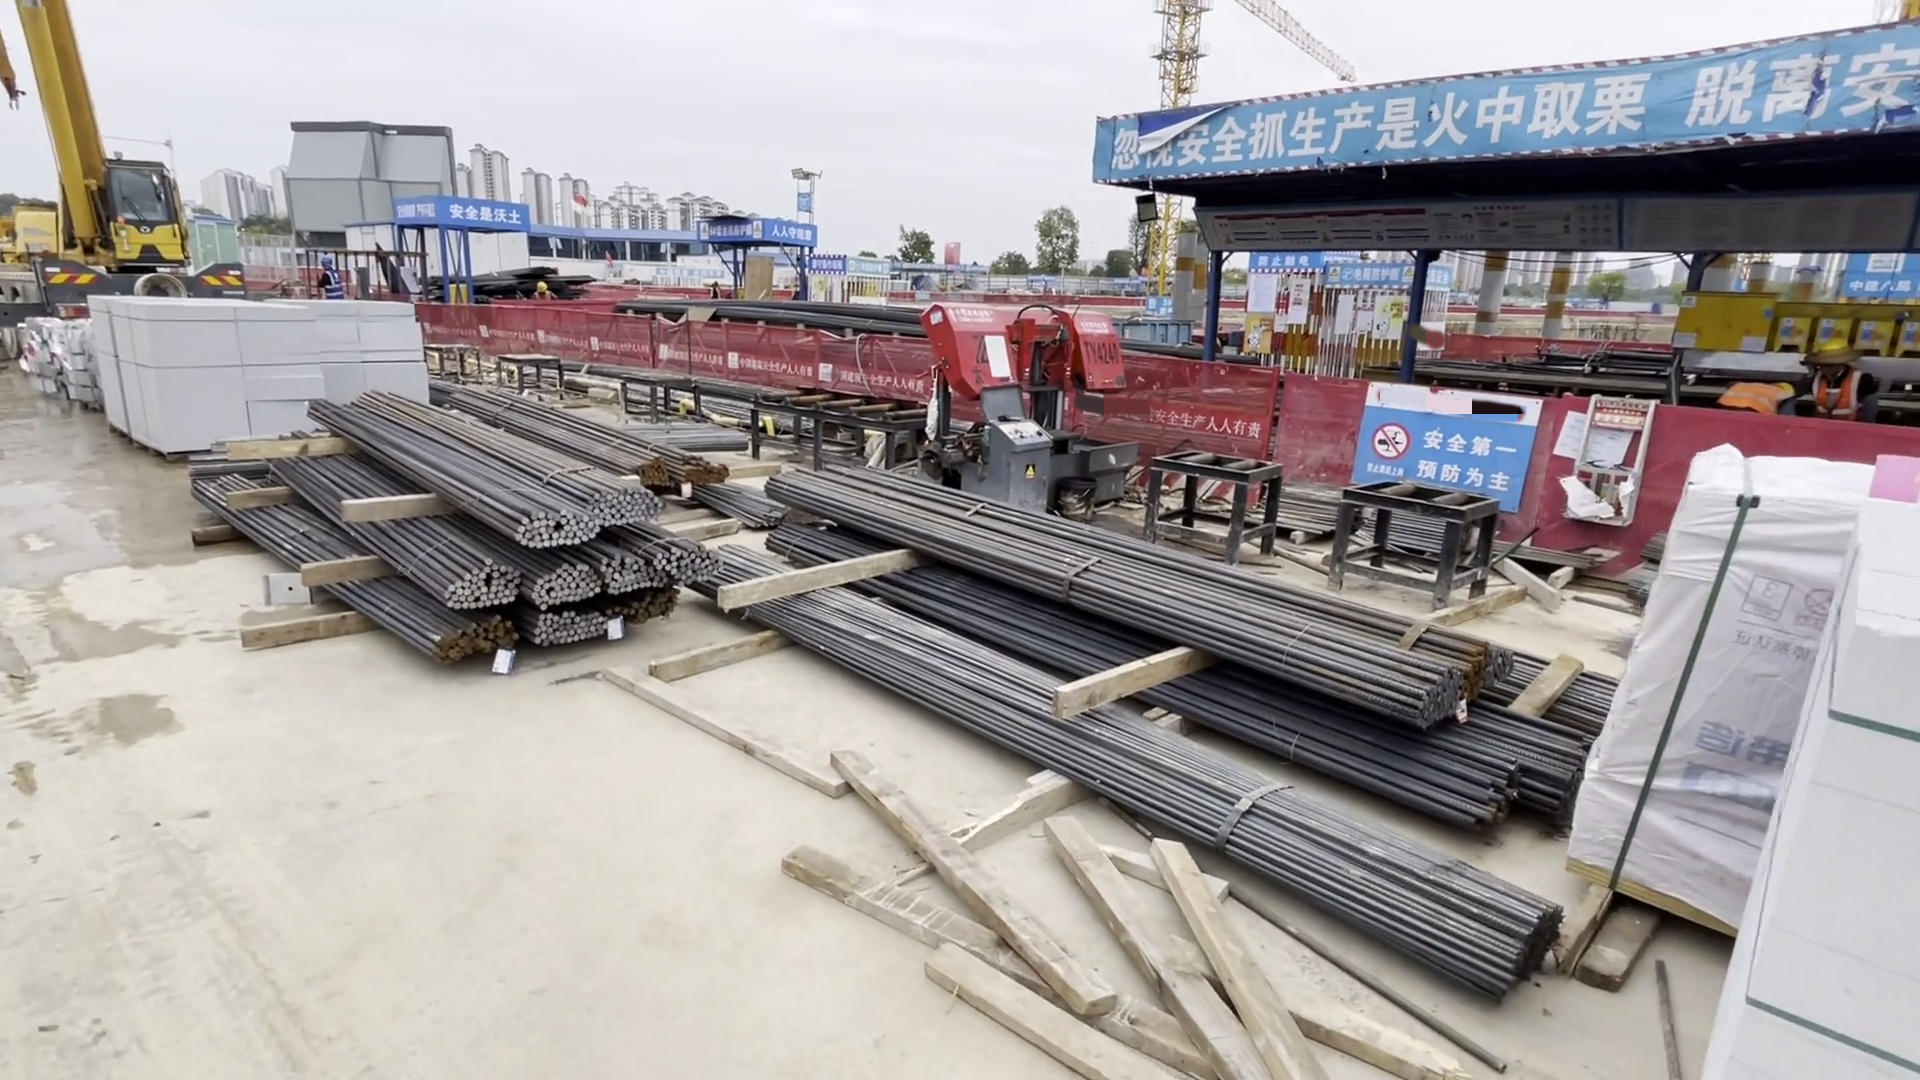brick: (88, 284, 448, 458)
fence: (421, 299, 973, 440)
rebar: (705, 455, 1588, 1004), (165, 392, 704, 679)
slogan: (1093, 49, 1920, 166), (1360, 378, 1532, 512), (396, 194, 530, 233), (684, 225, 822, 251)
